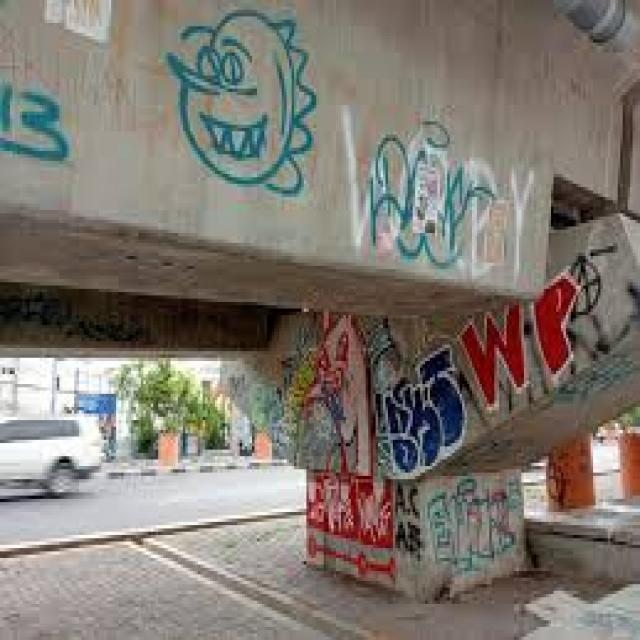-: (342, 104, 537, 280), (167, 9, 317, 197), (369, 118, 496, 270), (307, 308, 372, 471), (385, 346, 464, 475), (306, 470, 396, 580), (428, 480, 519, 575), (572, 244, 640, 360), (461, 300, 531, 410), (5, 290, 146, 344), (222, 354, 304, 436), (0, 79, 68, 164), (534, 272, 580, 384), (47, 0, 116, 43), (396, 483, 422, 554)
